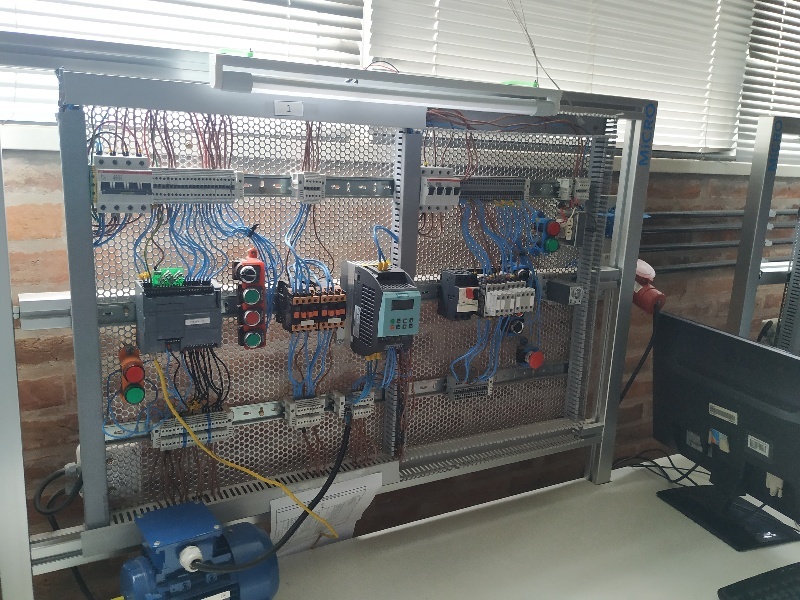Tablero 1: (78, 84, 607, 472)
